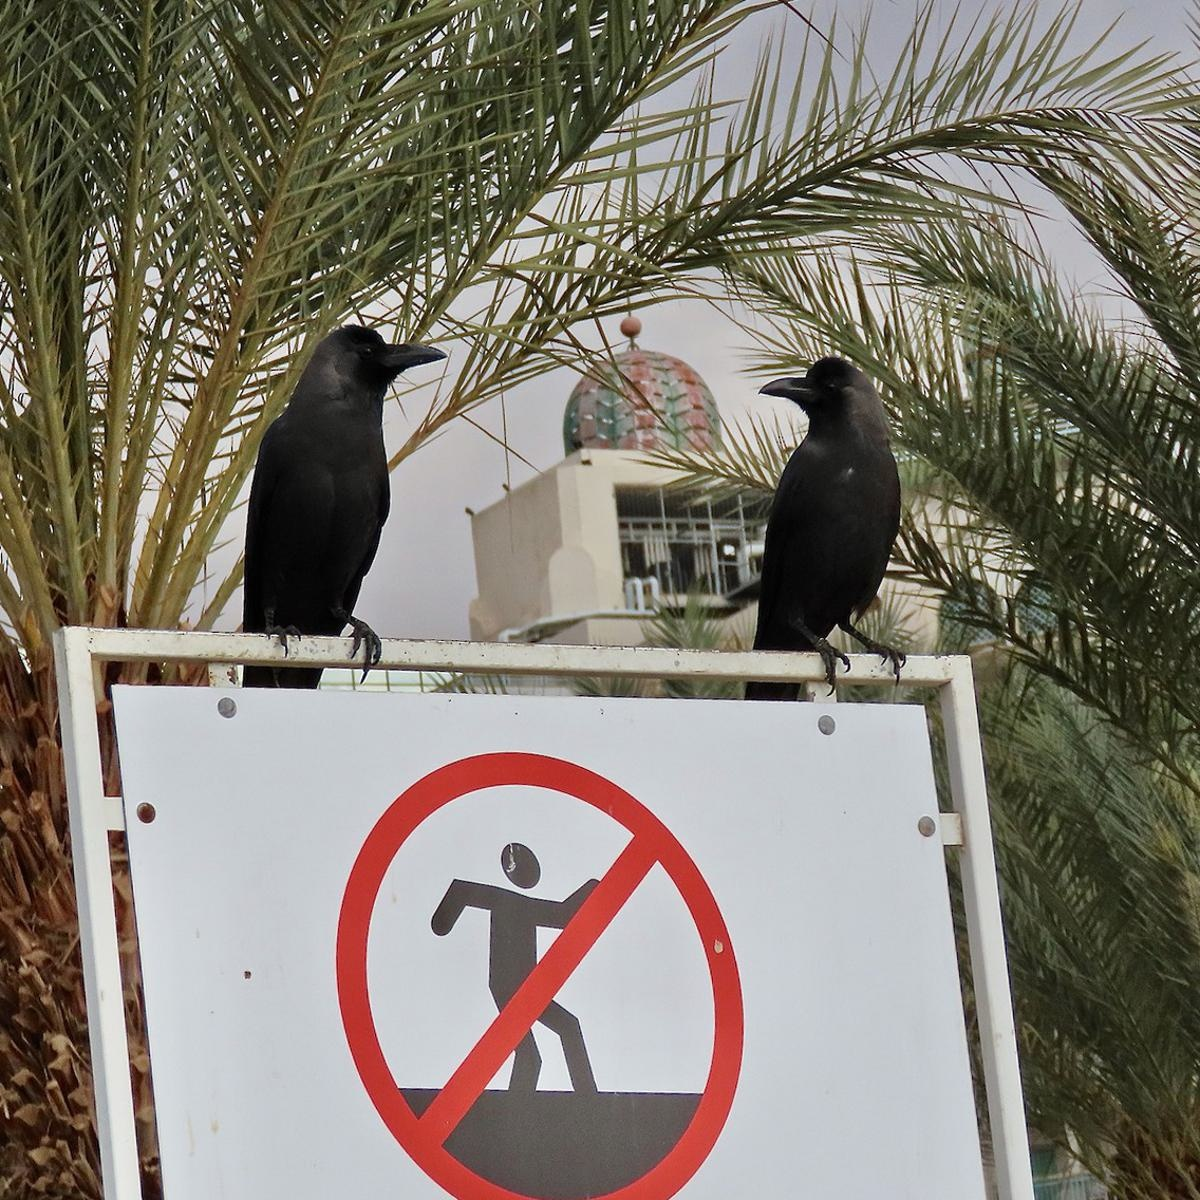crow: (219, 316, 463, 716), (748, 341, 933, 712)
